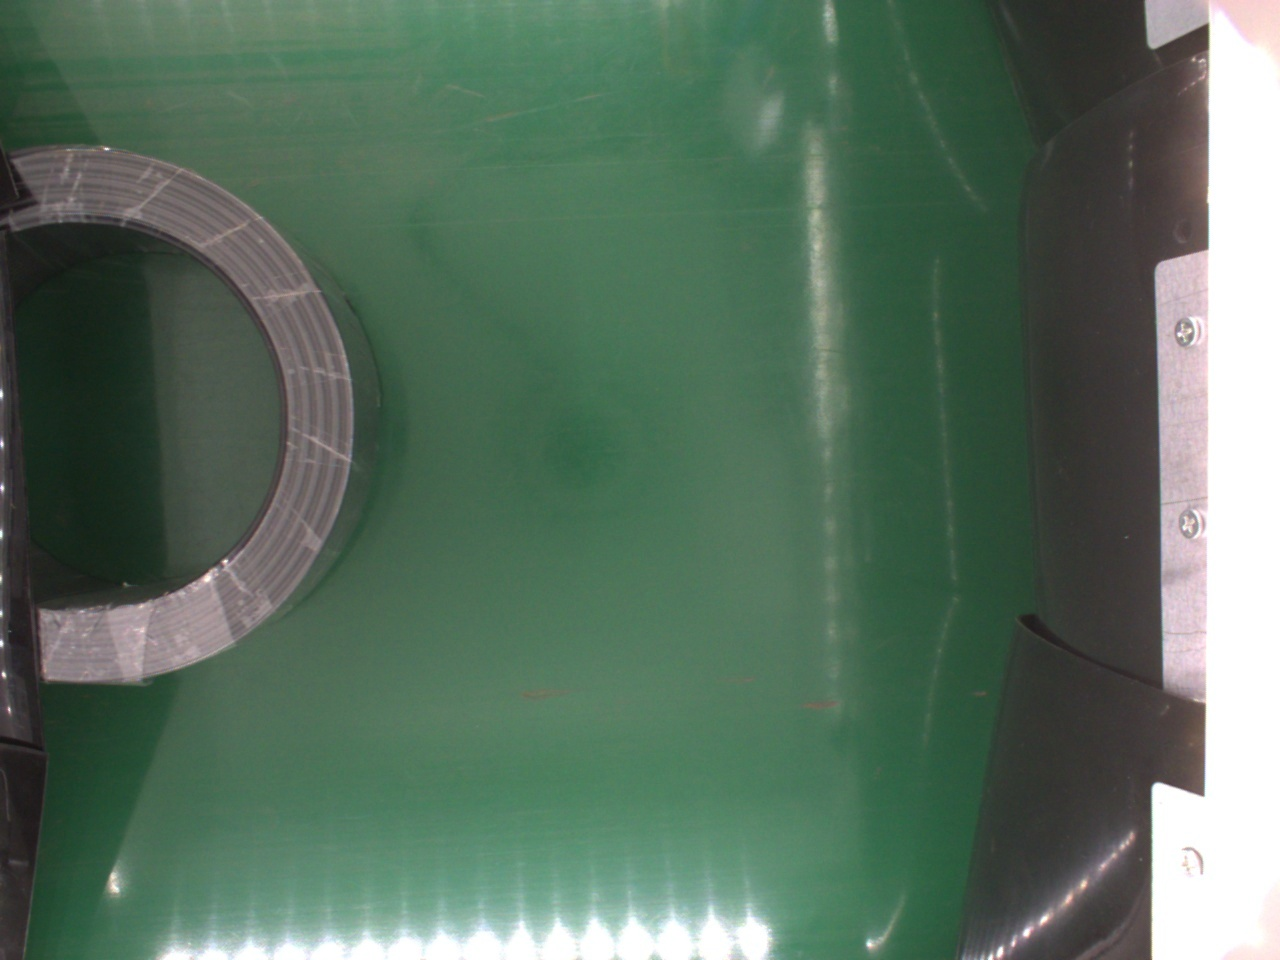black: (17, 142, 376, 690)
